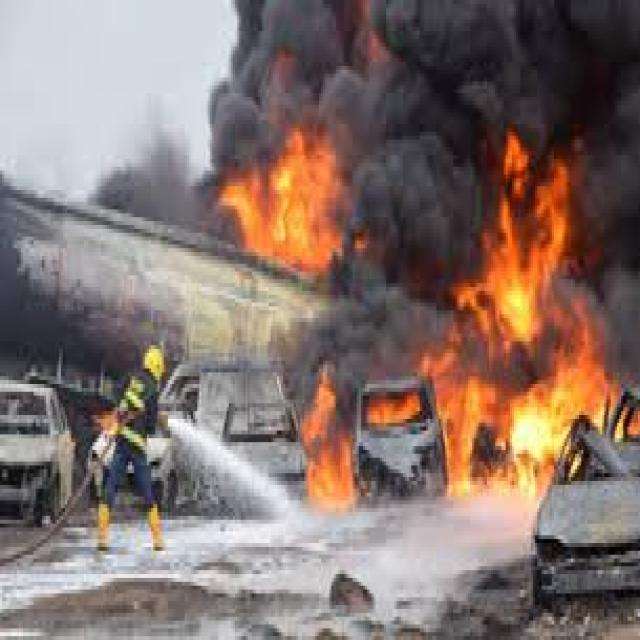fire: (451, 136, 577, 360), (426, 357, 554, 500), (218, 132, 348, 271), (294, 365, 352, 508), (365, 392, 420, 426)
smoke: (210, 4, 640, 388)
